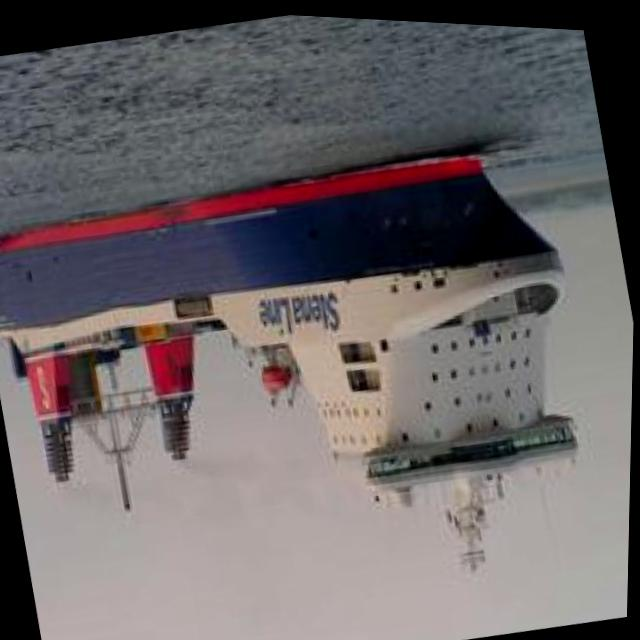ship2: (0, 145, 582, 565)
